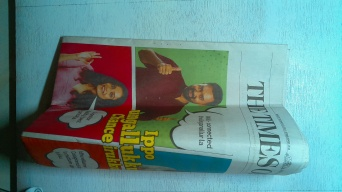p: (24, 25, 319, 182)
